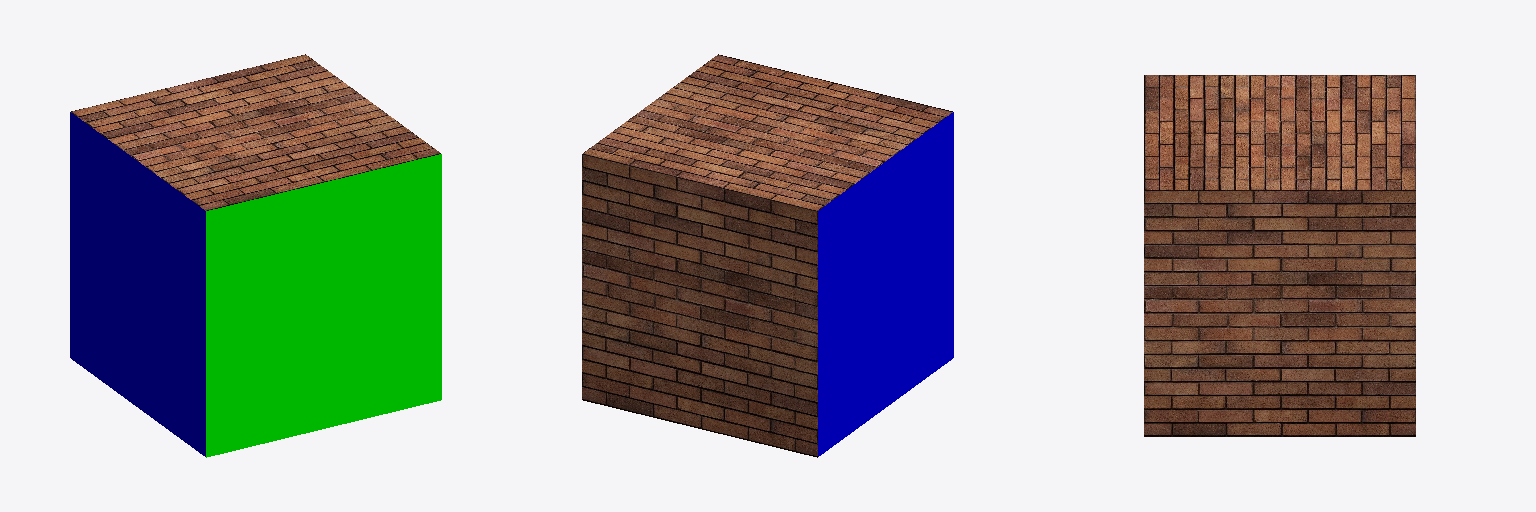
3 renders of one model, left to right at view 1: azimuth 30°, elevation 25°; view 2: azimuth 150°, elevation 25°; view 3: azimuth 270°, elevation 25°, orthographic.
Parts seen in each view (by area): view 1: cube; view 2: cube; view 3: cube.
Boxes of the visible parts, box(x1,y1,x2,y2) form: cube: box(70, 54, 441, 457); cube: box(582, 54, 953, 457); cube: box(1144, 75, 1415, 436).
Size of the model in its own units: 1 by 1 by 1.
5 materials, 1 textured.